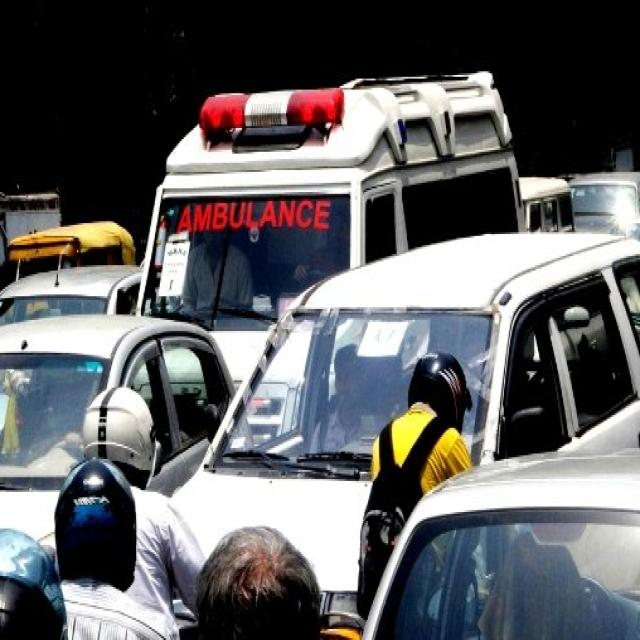car: (176, 234, 640, 596), (0, 316, 234, 547)
emergency: (139, 73, 523, 384)
